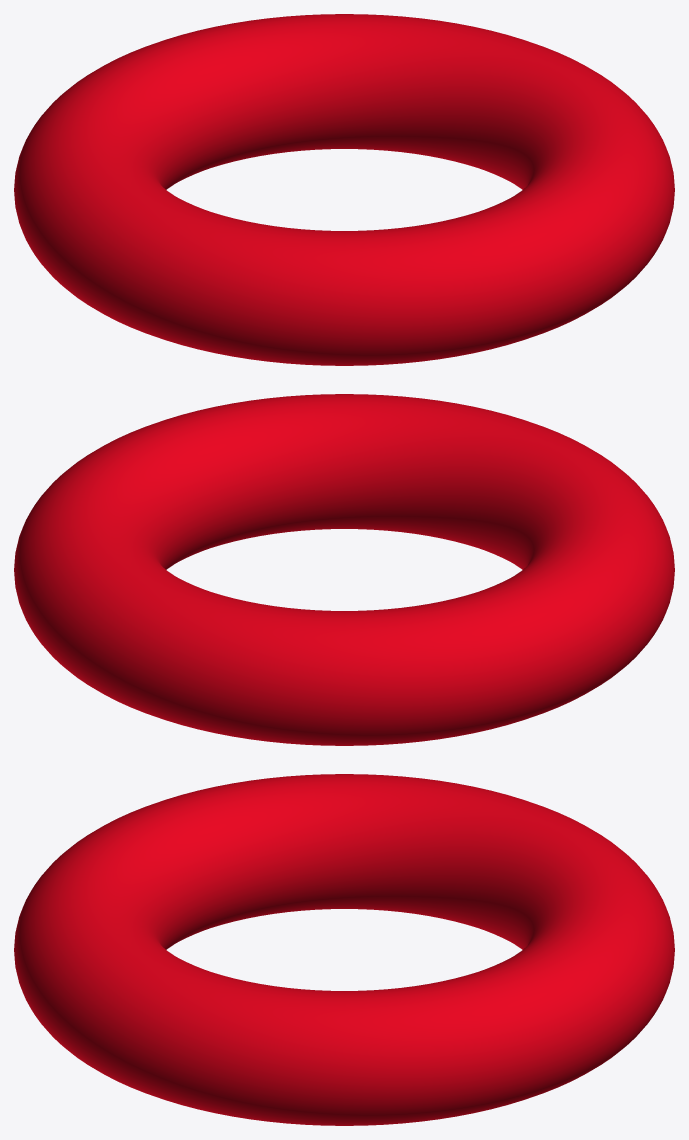
Rendered from ToroideRojo.obj.
3 views of the same model, one above another, from view 1: azimuth 30°, elevation 25°; view 2: azimuth 150°, elevation 25°; view 3: azimuth 270°, elevation 25° (orthographic).
Visible parts, largest first — view 1: Torus001; view 2: Torus001; view 3: Torus001.
Boxes of the visible parts, <box> form: Torus001: <box>14,14,674,365</box>; Torus001: <box>14,394,674,745</box>; Torus001: <box>14,774,674,1125</box>.
Bounding box in the file's own units: 25 × 5 × 25.
Materials: 1 (1 with a texture image).
